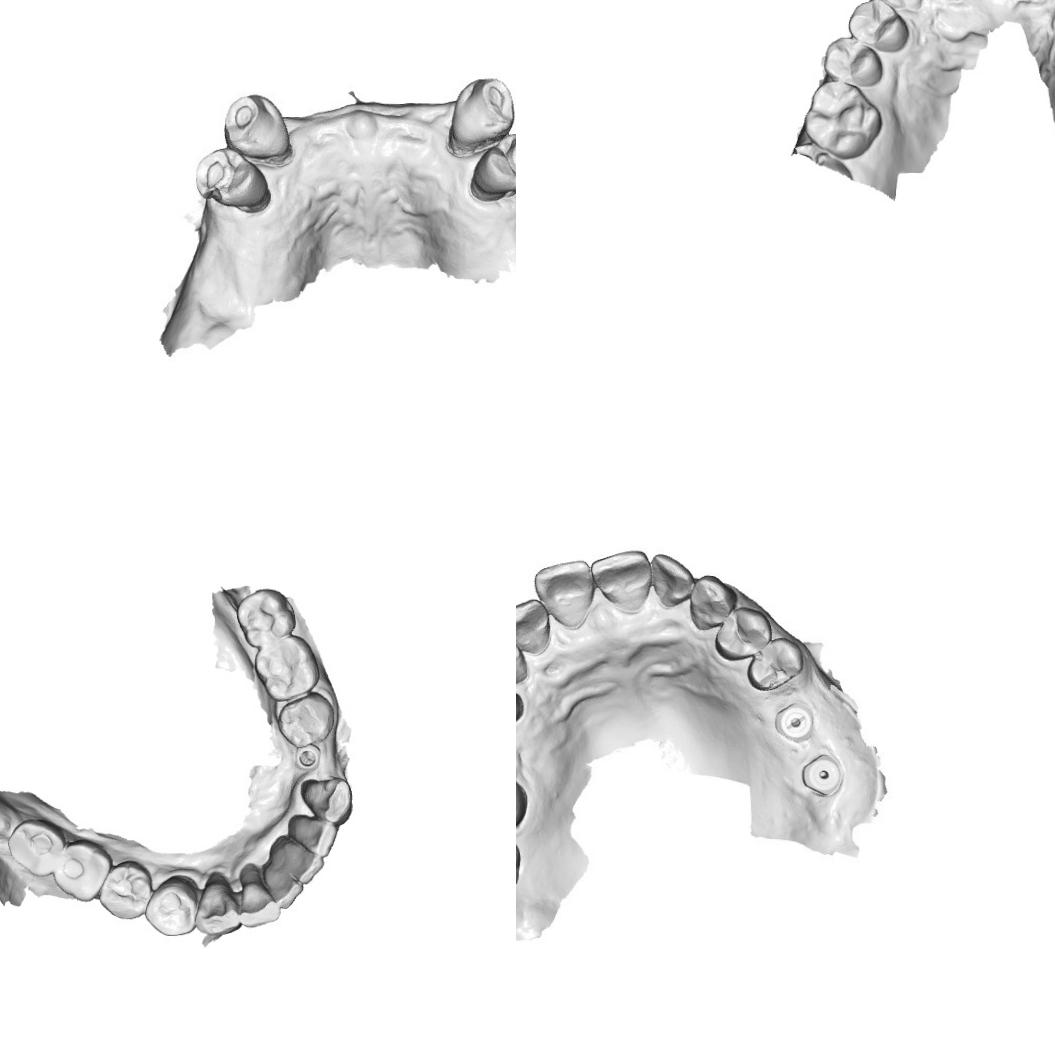canine: (446, 78, 514, 152), (224, 88, 292, 158), (193, 871, 243, 938), (686, 571, 739, 632), (299, 776, 353, 826), (516, 631, 531, 688), (878, 0, 924, 11)
implant: (800, 752, 846, 797), (293, 742, 321, 773)
implant_minus: (776, 704, 814, 744)
incisor: (532, 559, 598, 630), (589, 548, 652, 614), (236, 863, 282, 928), (648, 551, 694, 610), (270, 834, 324, 884), (286, 814, 338, 858), (260, 860, 304, 910), (516, 594, 550, 657)
molar: (802, 79, 883, 161), (253, 632, 320, 702), (52, 837, 114, 902), (5, 817, 66, 878), (236, 587, 296, 649)
premolar: (196, 147, 270, 218), (712, 604, 777, 662), (142, 874, 198, 938), (275, 690, 335, 748), (846, 0, 910, 54), (98, 858, 153, 920), (821, 36, 883, 88), (748, 636, 804, 692), (471, 130, 516, 197)
